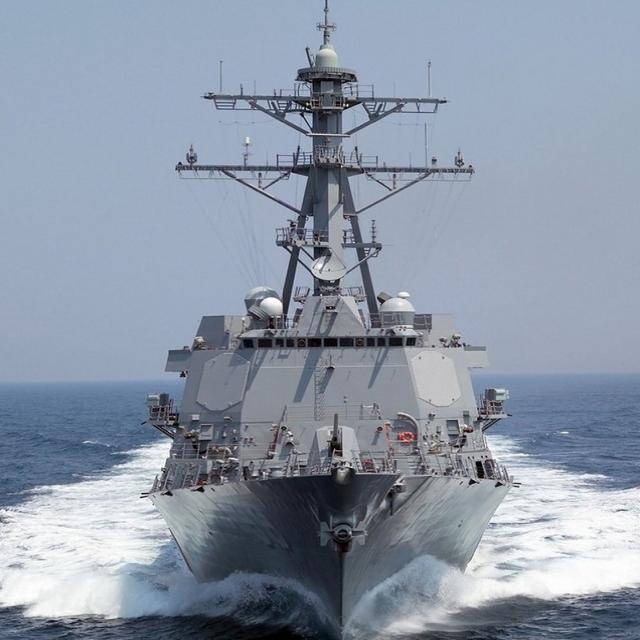navalvessels: (31, 22, 507, 593)
